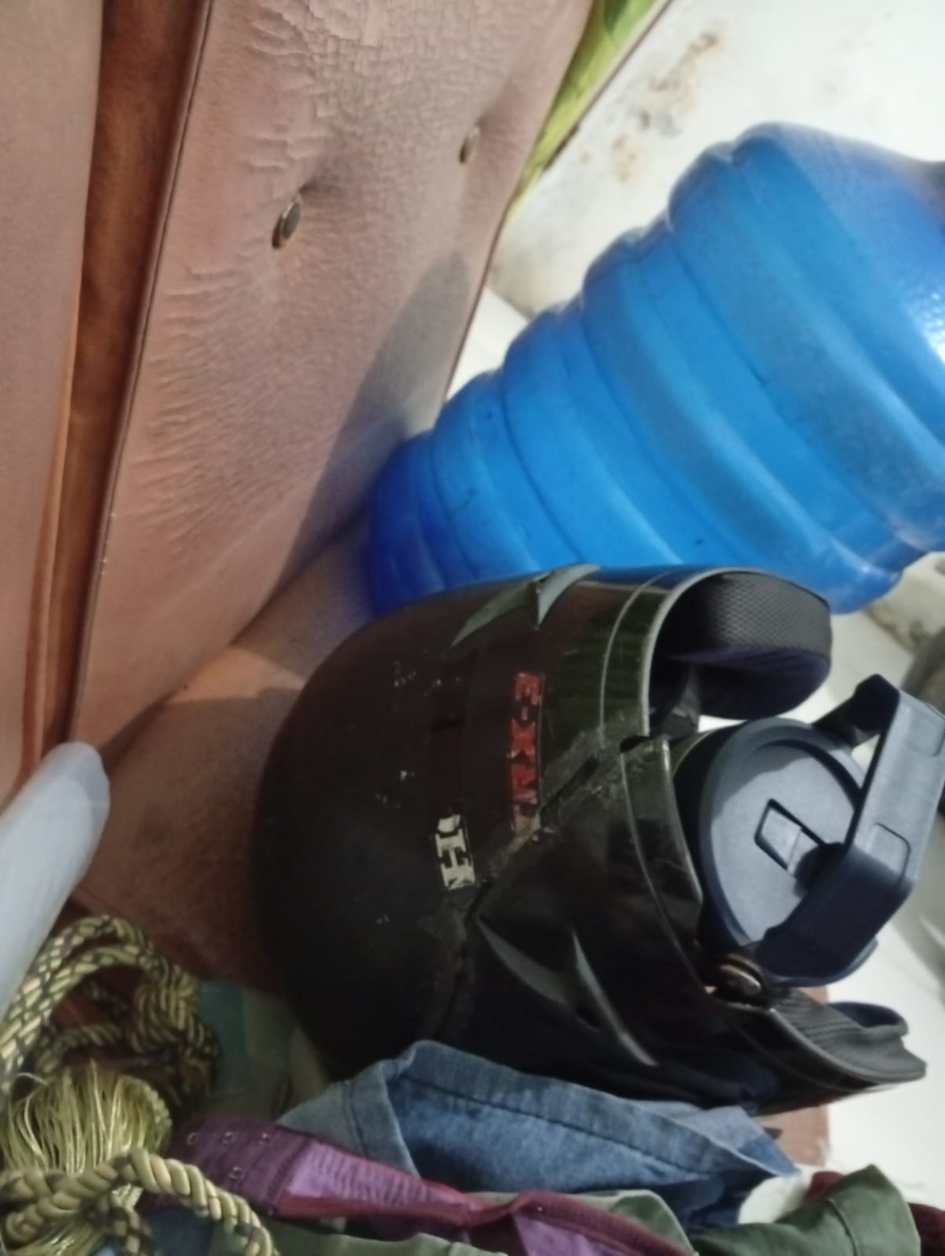Tupperware: (654, 657, 945, 1005)
